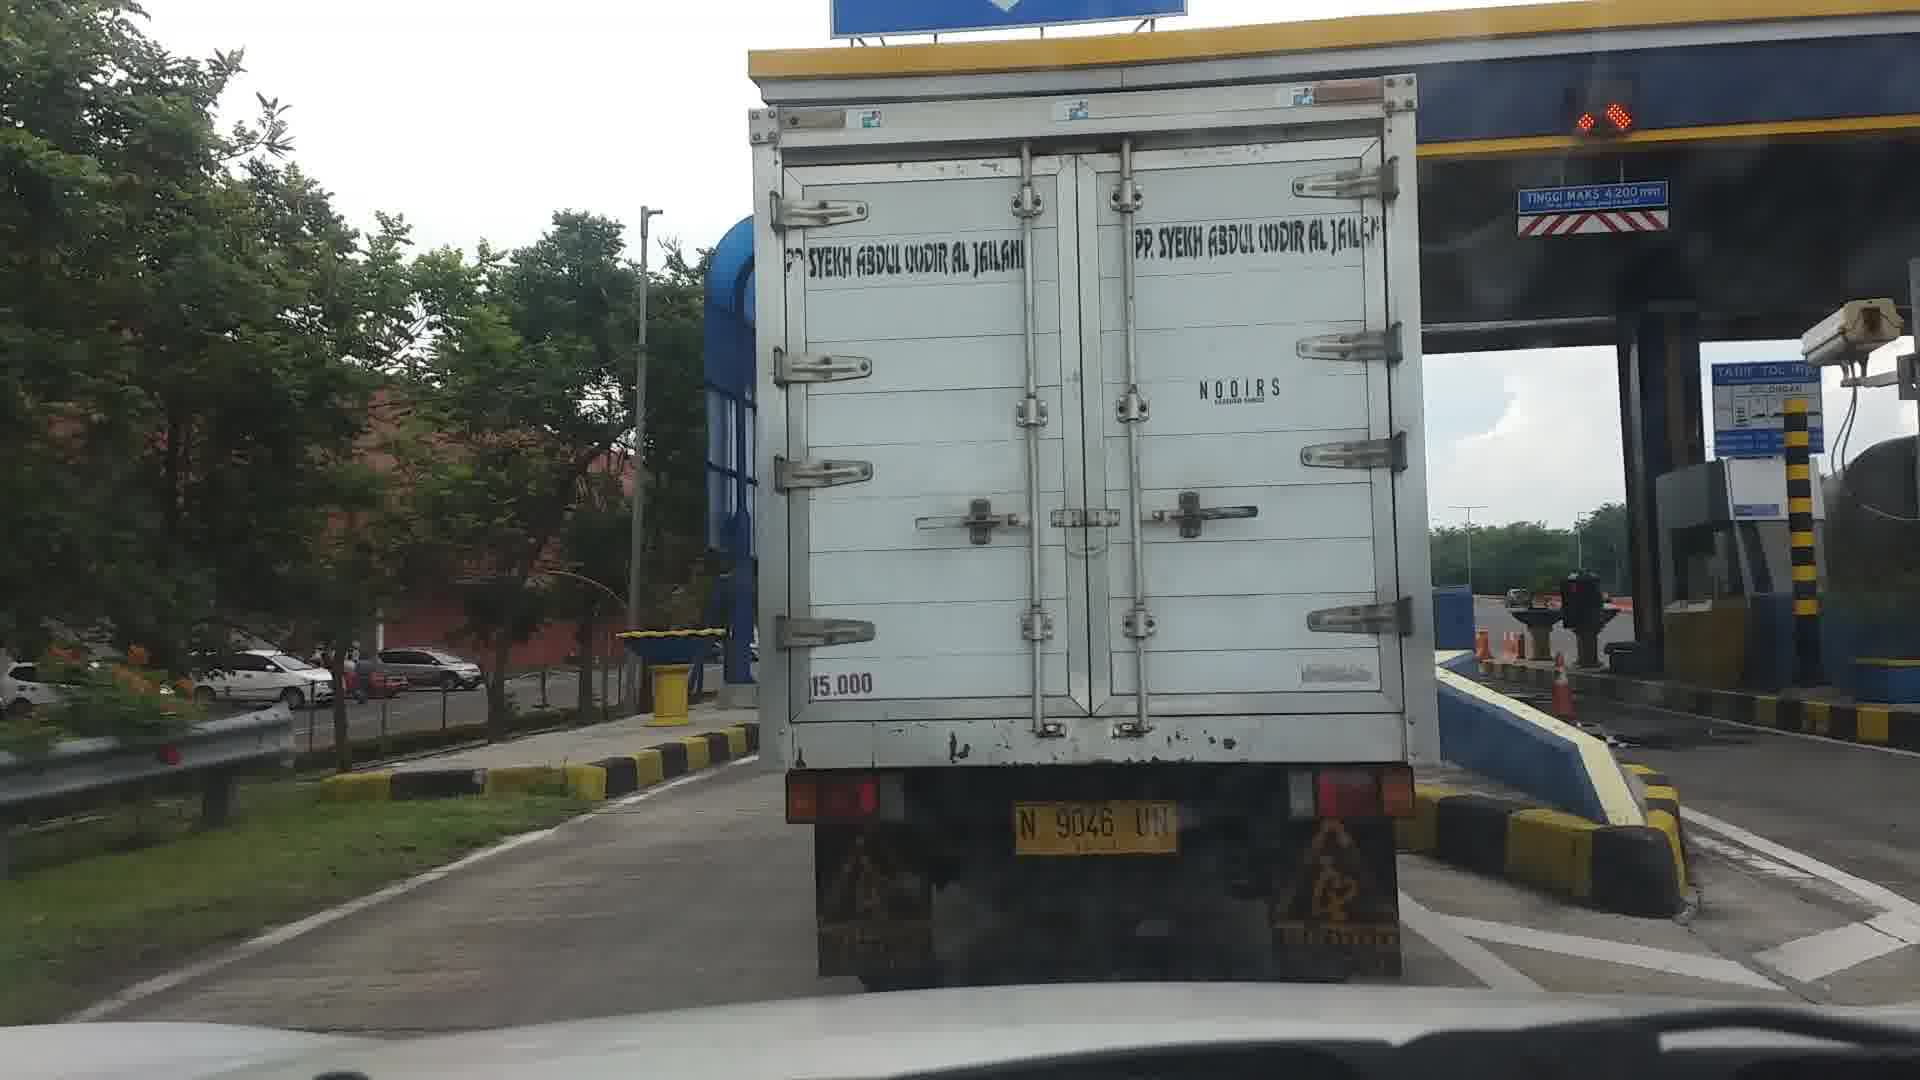plate_positive: (1011, 800, 1179, 855)
